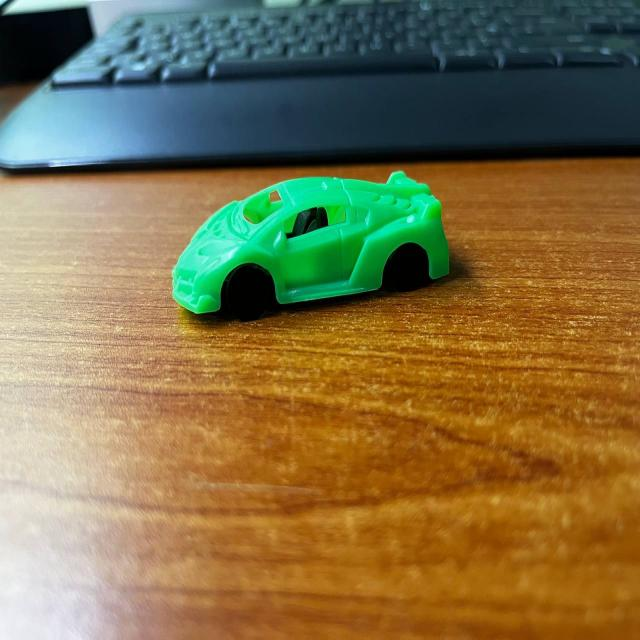car: (156, 165, 466, 328)
